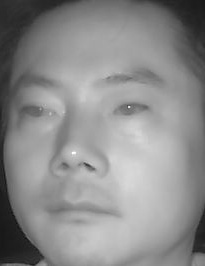eye: (111, 100, 153, 122), (19, 99, 59, 122)
mouth: (45, 187, 118, 228)
